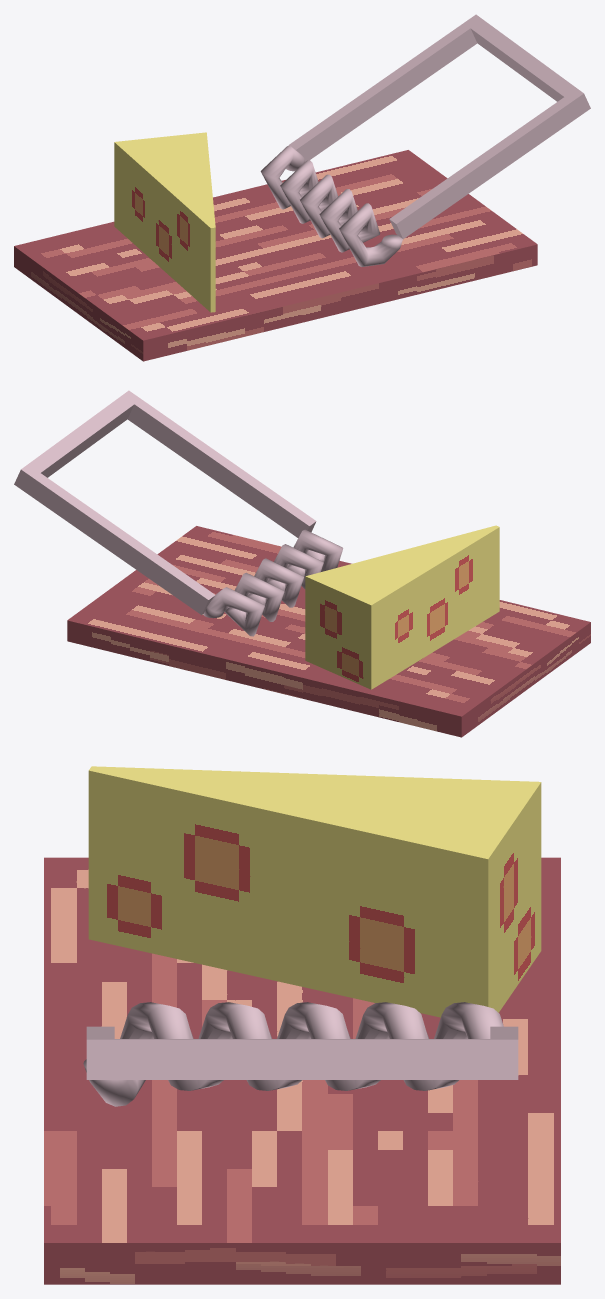
The model's file is Trap.fbx.
The picture shows the model from 3 angles, top to bottom: view 1: azimuth 30°, elevation 25°; view 2: azimuth 150°, elevation 25°; view 3: azimuth 270°, elevation 25°; orthographic projection. The views are drawn at different scales.
Parts seen in each view (by area): view 1: Trampa, Cube.002, Cube.003, BézierCircle.001; view 2: Trampa, Cube.003, Cube.002, BézierCircle.001; view 3: Trampa, Cube.003, Cube.002, BézierCircle.001.
Boxes of the visible parts, box(x1,y1,x2,y2) form: Trampa: box(14, 150, 537, 361); Cube.002: box(288, 14, 590, 239); Cube.003: box(114, 132, 215, 312); BézierCircle.001: box(260, 146, 402, 266); Trampa: box(67, 526, 590, 737); Cube.003: box(305, 525, 499, 689); Cube.002: box(14, 390, 316, 615); BézierCircle.001: box(203, 529, 343, 636); Trampa: box(44, 857, 560, 1284); Cube.003: box(88, 766, 541, 1017); Cube.002: box(86, 1026, 518, 1079); BézierCircle.001: box(83, 1002, 503, 1106).
Bounding box in the file's own units: 410 × 128 × 200.
Materials: 3 (2 with a texture image).
